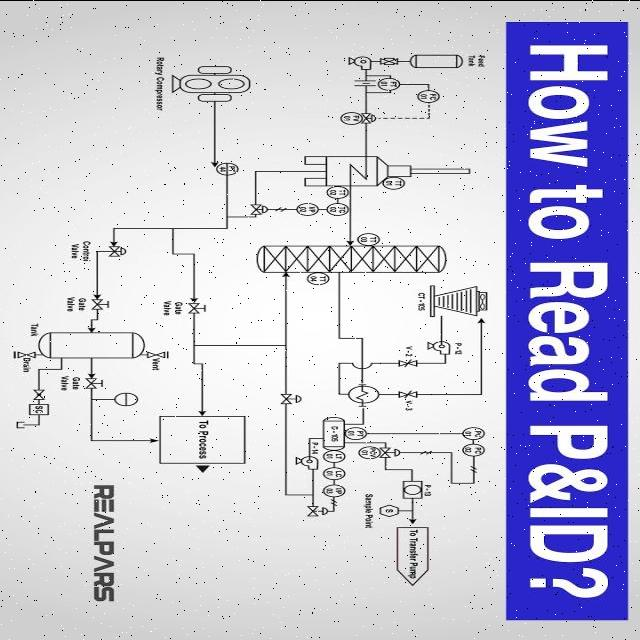Butterfly Valve: (395, 382, 423, 397), (396, 359, 422, 367)
Centrifugal Pump: (422, 336, 456, 356), (291, 452, 322, 470)
Gate Valve: (16, 384, 52, 404)
Hand Operated Gate Valve: (184, 292, 214, 318), (80, 376, 112, 392), (90, 298, 130, 308)
Orifice: (352, 78, 380, 98)
Plug Valve: (375, 55, 401, 69)
Pneumatic-Diaphragm Gate Valve: (256, 390, 319, 411), (377, 443, 408, 463), (360, 111, 380, 127), (304, 506, 332, 516), (106, 246, 130, 256)
